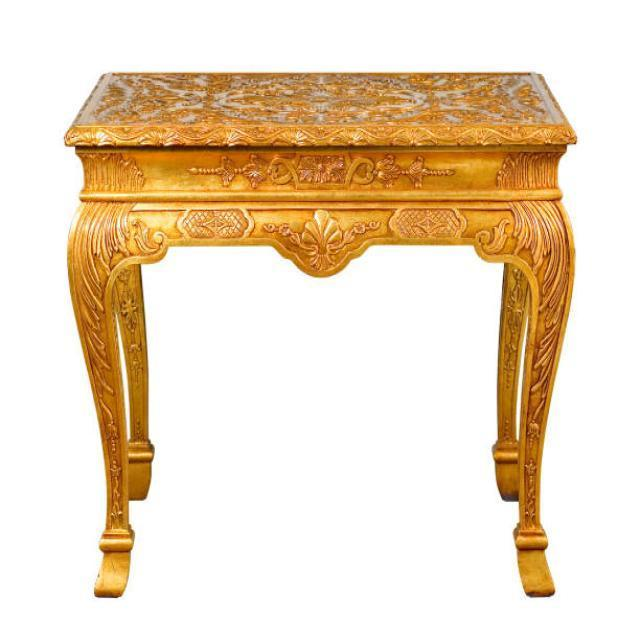table: (62, 68, 578, 600)
